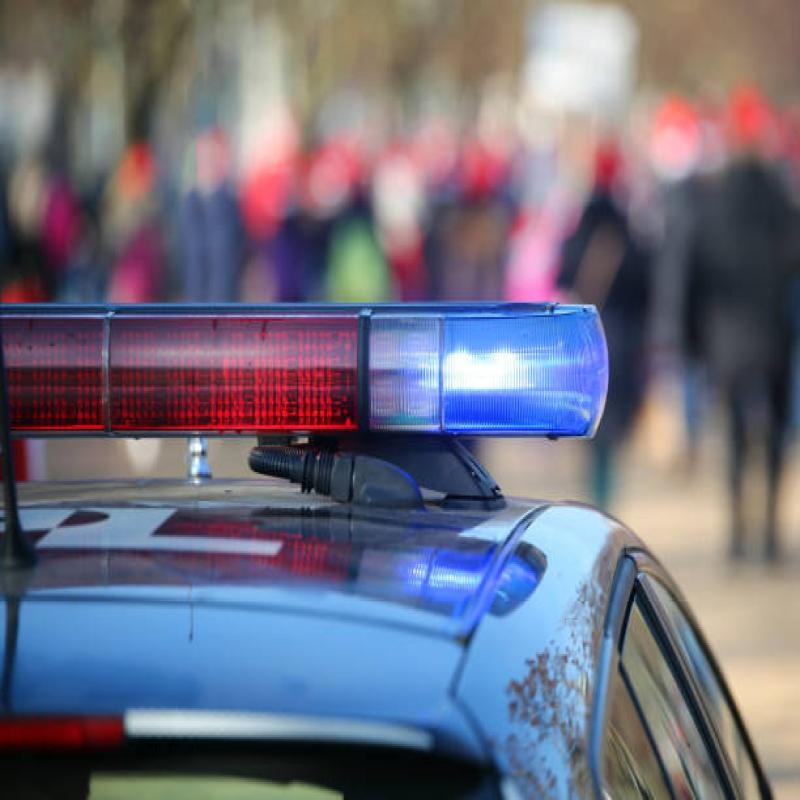AmbulanceSiren: (0, 281, 615, 533)
